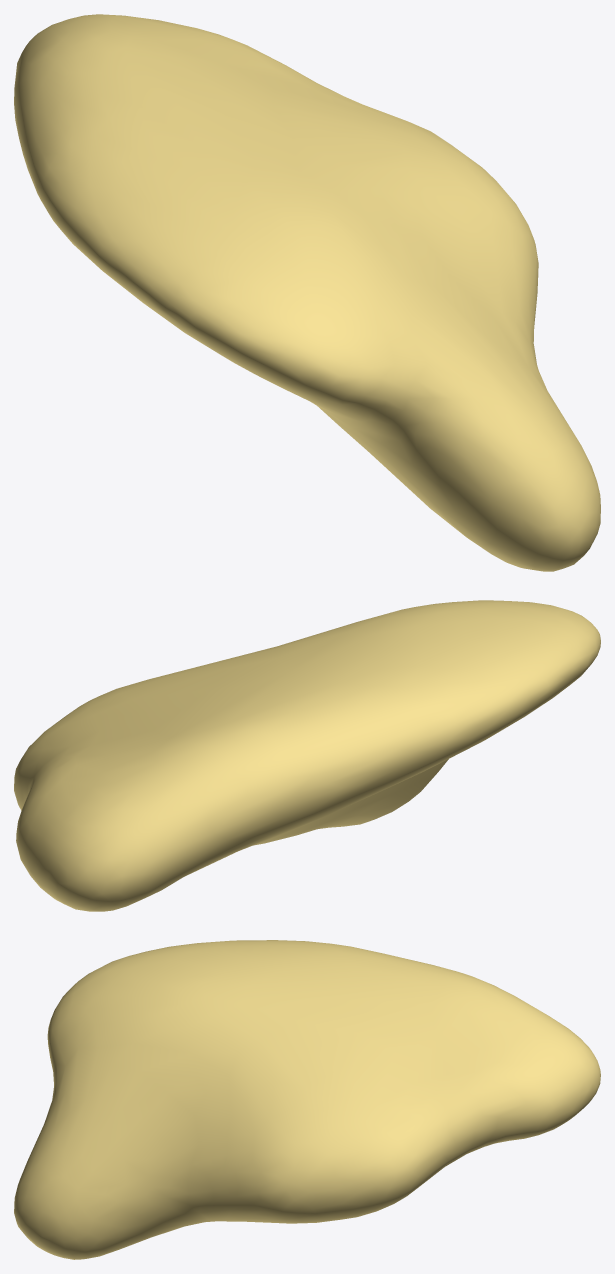
Rendered from fma74047-l_mm3006.glb.
The picture shows the model from 3 angles, top to bottom: view 1: azimuth 30°, elevation 25°; view 2: azimuth 150°, elevation 25°; view 3: azimuth 270°, elevation 25°; orthographic projection. The views are drawn at different scales.
Visible parts, largest first — view 1: FMA74047-L_MM3006; view 2: FMA74047-L_MM3006; view 3: FMA74047-L_MM3006.
Boxes of the visible parts, x1,y1,x2,y2 form: FMA74047-L_MM3006: [14, 14, 600, 571]; FMA74047-L_MM3006: [14, 600, 600, 911]; FMA74047-L_MM3006: [14, 940, 600, 1259].
Size of the model in its own units: 0.0073 by 0.00501 by 0.0116.
